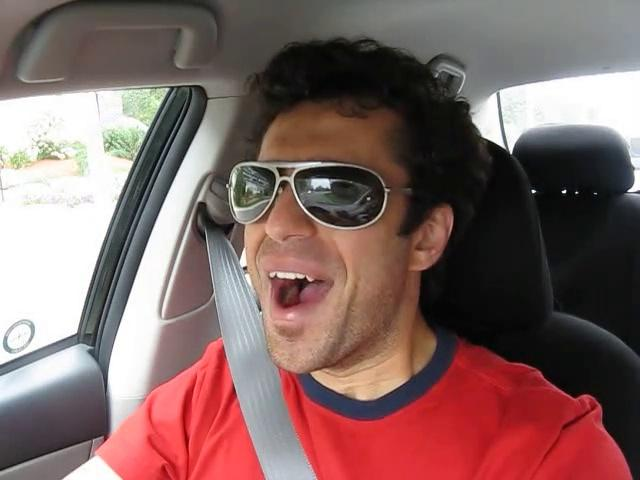yawn: (251, 261, 344, 322)
